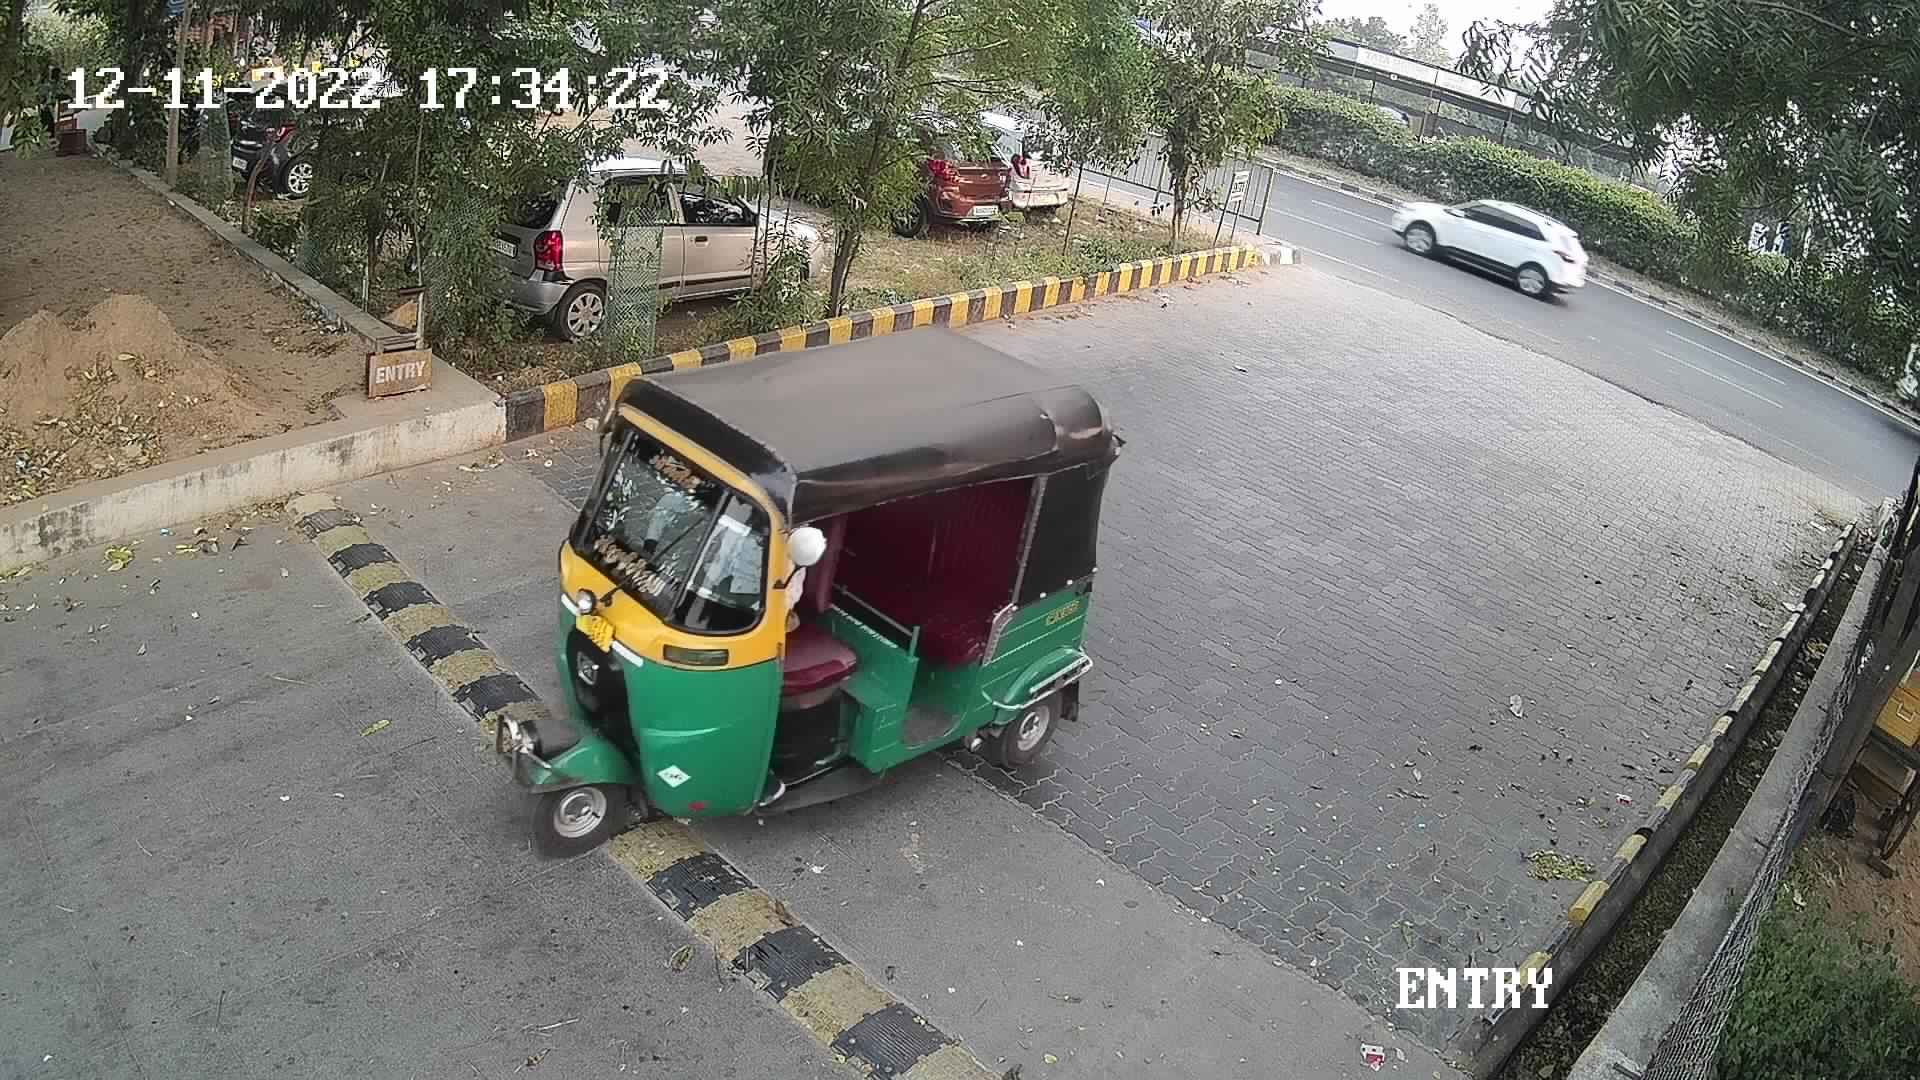Auto: (514, 322, 1121, 864)
Car: (481, 142, 823, 342), (1379, 171, 1600, 309), (866, 94, 1017, 245), (957, 95, 1085, 225)
